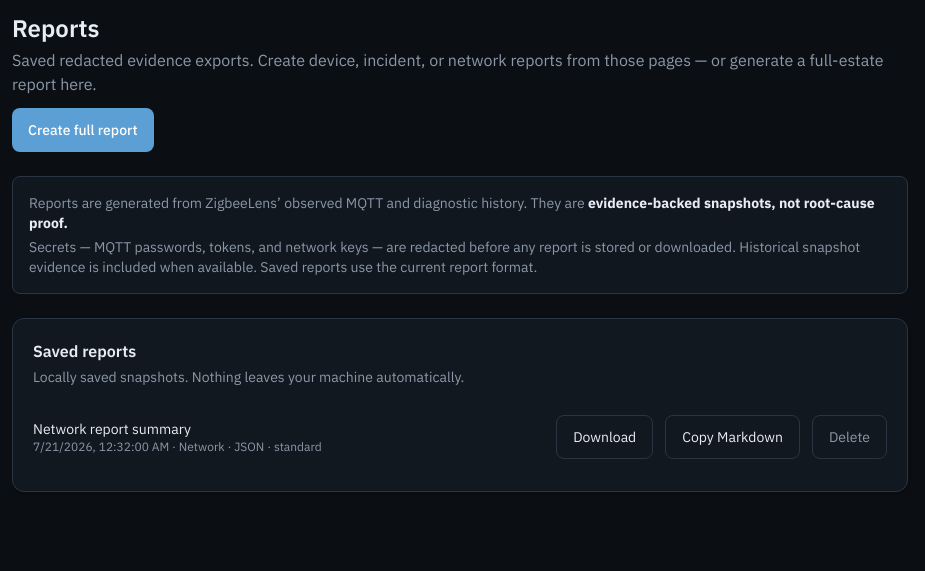
it: ReportsPage saved history › blocks copy while download is pending for the same report
Click the button with aria-label "Download network JSON report generated" at (605, 437), box [556,415,653,459]
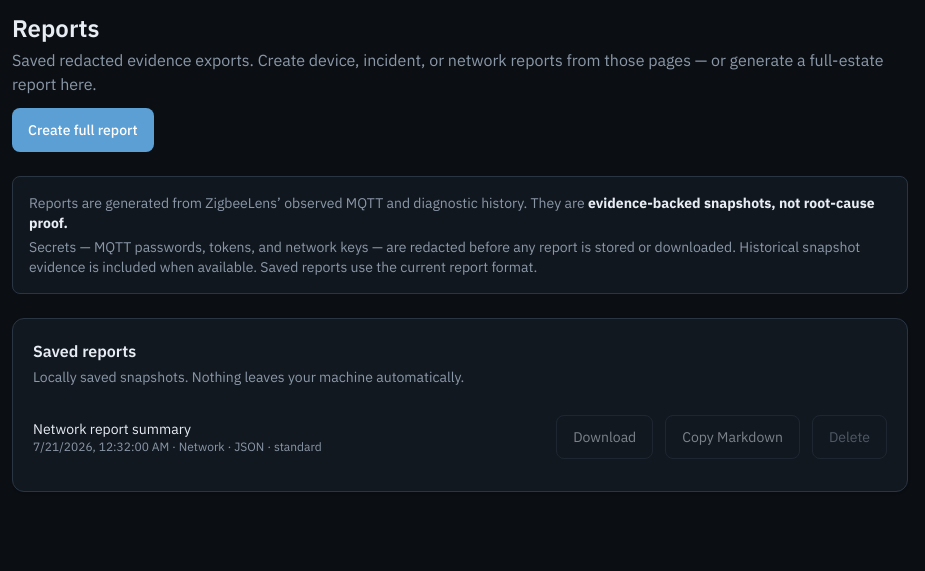
Click the button with aria-label "Copy Markdown from network JSON report generated" at (733, 437), box [665,415,800,459]
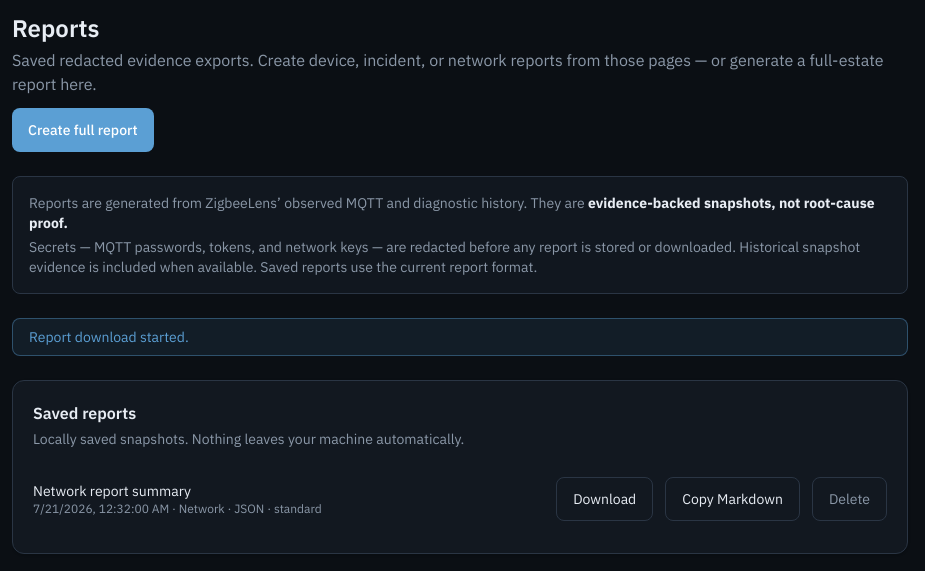
Result: the button with aria-label "Download network JSON report generated" is enabled at [556,477,653,521]
